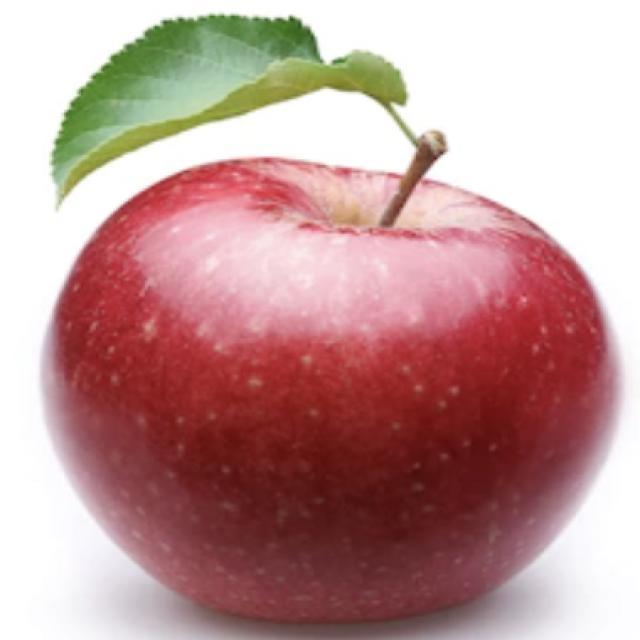Fresh Apple: (107, 155, 578, 613)
